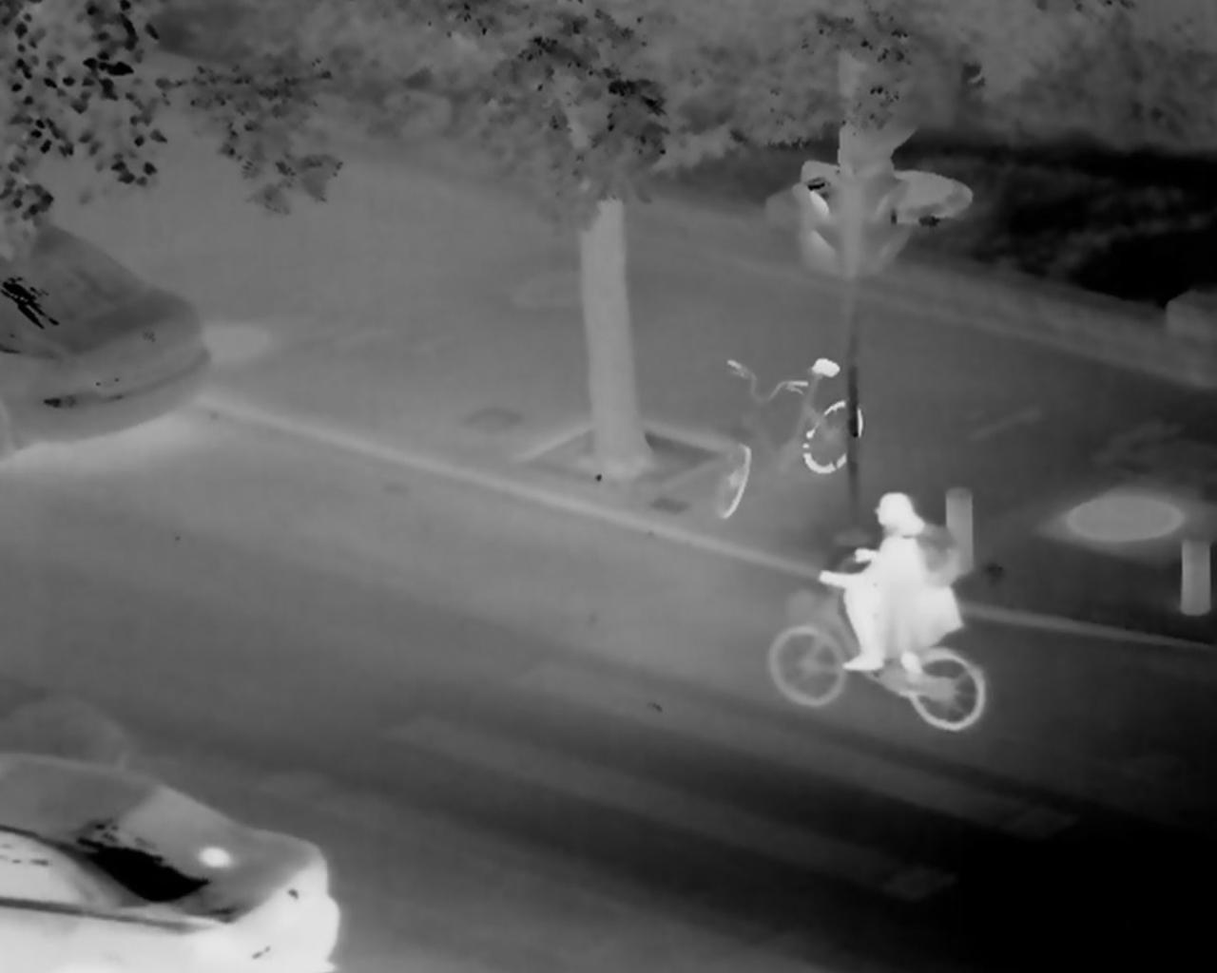person: (817, 491, 967, 707)
